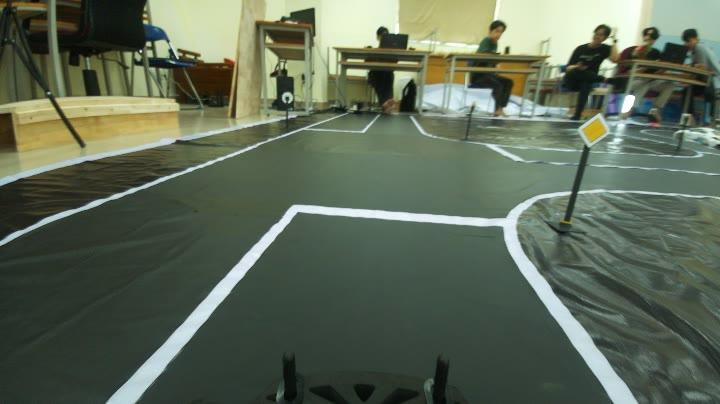priority: (576, 106, 608, 150)
